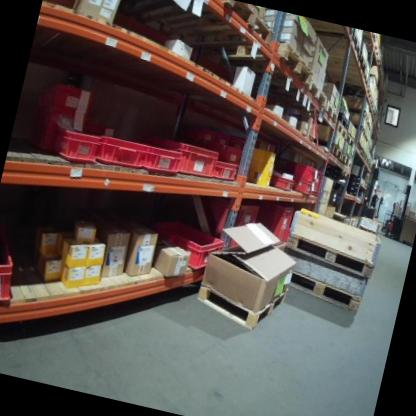pallet: (136, 0, 282, 63), (87, 0, 238, 48), (193, 266, 292, 339), (226, 29, 320, 91), (268, 264, 368, 319), (282, 231, 381, 279), (298, 76, 334, 112), (308, 139, 346, 163), (337, 26, 365, 56), (326, 120, 351, 142), (316, 103, 341, 124), (337, 111, 353, 130), (343, 133, 357, 148), (342, 157, 352, 167)
pallet_truck: (360, 166, 396, 223), (384, 178, 416, 240)
small_load_carrier: (24, 102, 96, 160), (146, 225, 225, 276), (204, 192, 268, 254), (154, 132, 221, 181), (35, 78, 101, 116), (93, 129, 148, 174), (51, 125, 100, 166), (135, 138, 184, 179), (255, 198, 295, 247), (0, 243, 21, 312), (208, 160, 241, 187), (285, 159, 320, 183), (191, 121, 225, 143), (216, 141, 246, 165), (309, 165, 327, 199), (267, 175, 294, 192), (292, 178, 316, 196)
